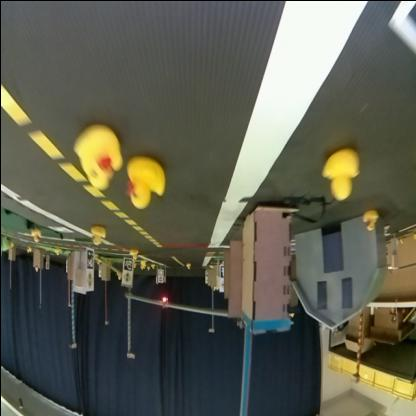Duckie: (73, 126, 121, 184), (124, 158, 163, 209), (322, 150, 357, 200), (90, 227, 104, 245), (363, 210, 375, 230), (30, 232, 39, 242), (129, 251, 135, 259), (186, 262, 190, 270)
QR code: (122, 258, 130, 272), (86, 250, 92, 265)
Signal sign: (86, 272, 92, 288), (122, 272, 130, 282)
Traffic light: (160, 296, 166, 306)
